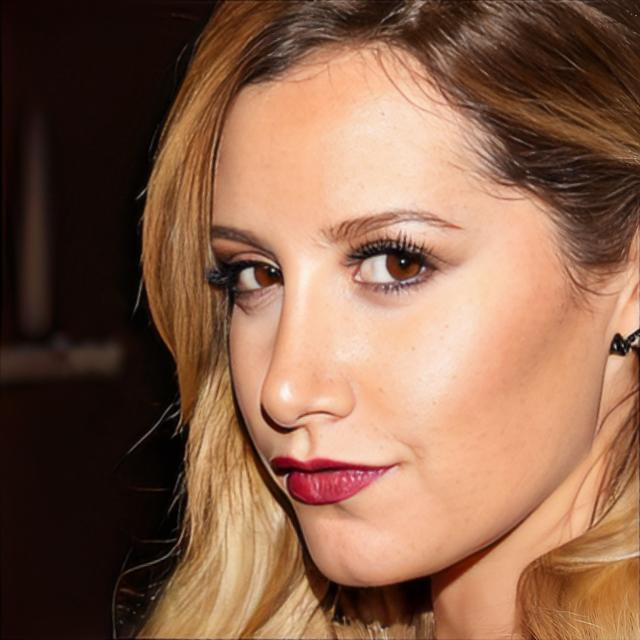content: (207, 38, 608, 584)
